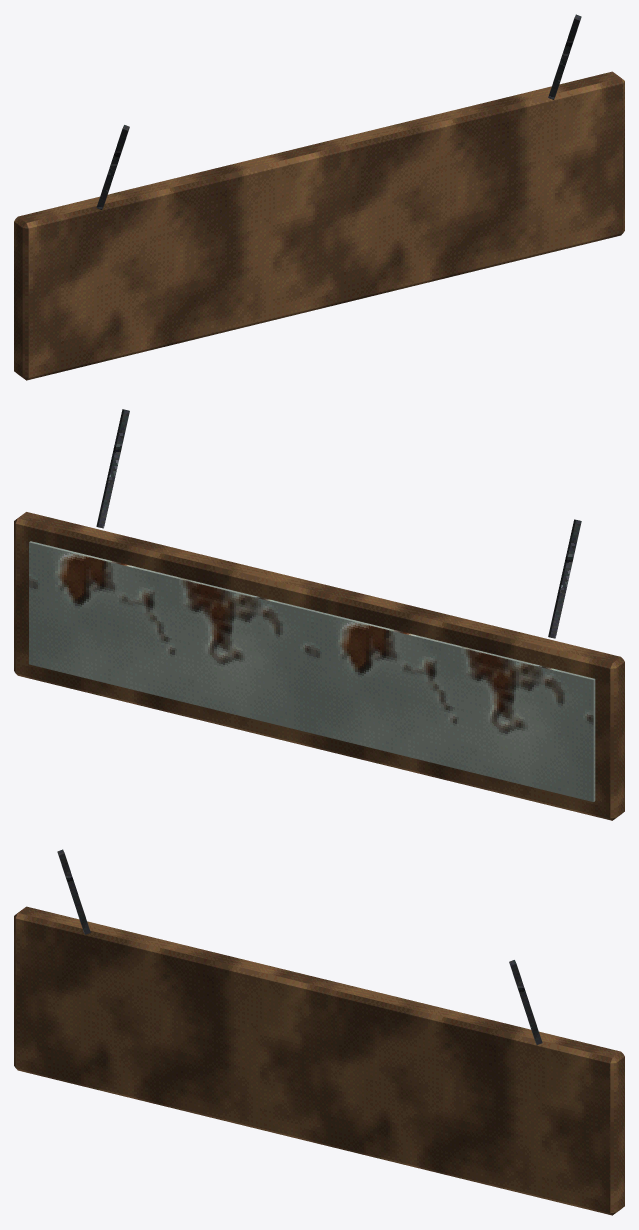
Rendered from ext_sign_board.glb.
3 renders of one model, top to bottom at view 1: azimuth 30°, elevation 25°; view 2: azimuth 150°, elevation 25°; view 3: azimuth 330°, elevation 25°, orthographic.
Visible parts, largest first — view 1: ext_sign_board_mesh; view 2: ext_sign_board_mesh; view 3: ext_sign_board_mesh.
Part boxes in pixels (x1,y1,x2,y2): ext_sign_board_mesh: (14,14,624,380); ext_sign_board_mesh: (14,409,624,820); ext_sign_board_mesh: (14,849,624,1215).
Size of the model in its own units: 3.2 by 1.31 by 0.393.
3 materials, 3 textured.
